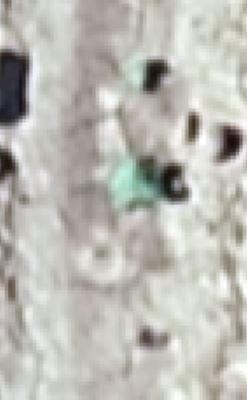cotton: (115, 162, 139, 189), (127, 180, 156, 202), (130, 59, 143, 85)
